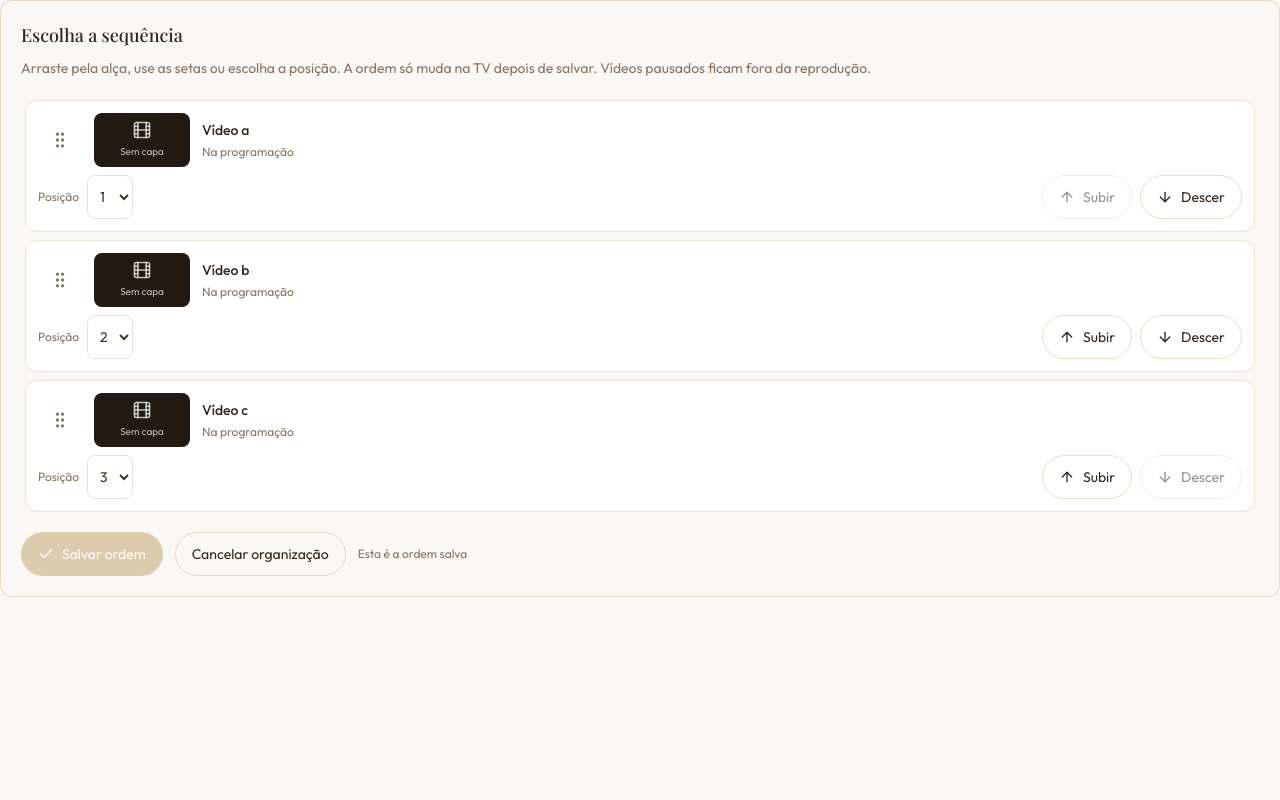
Test: preserves the draft and conflict when both conflict refresh and explicit reload fail: result
Select "1" in the dropdown named "Posição de Vídeo c" at [110, 477], box 87,455 -> 133,499
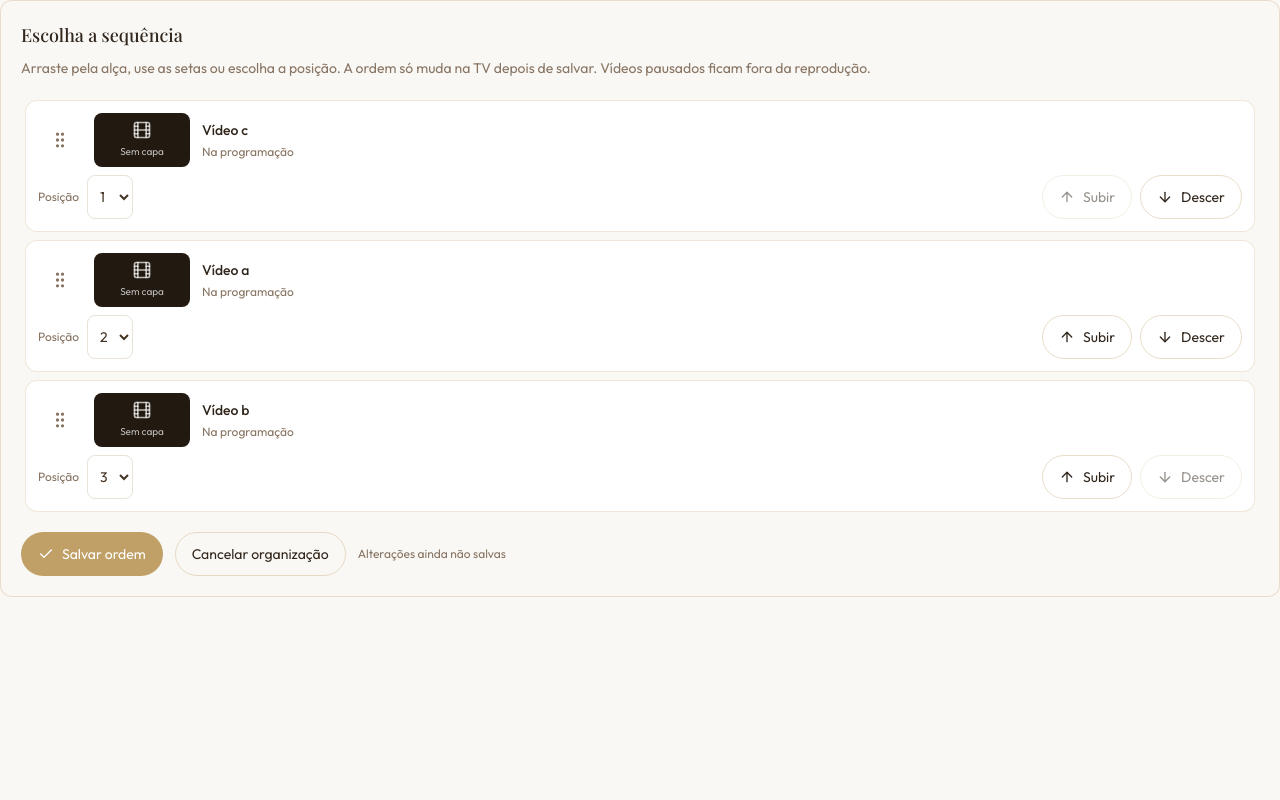
Click the button "Salvar ordem" at [92, 554], box 21,532 -> 163,576
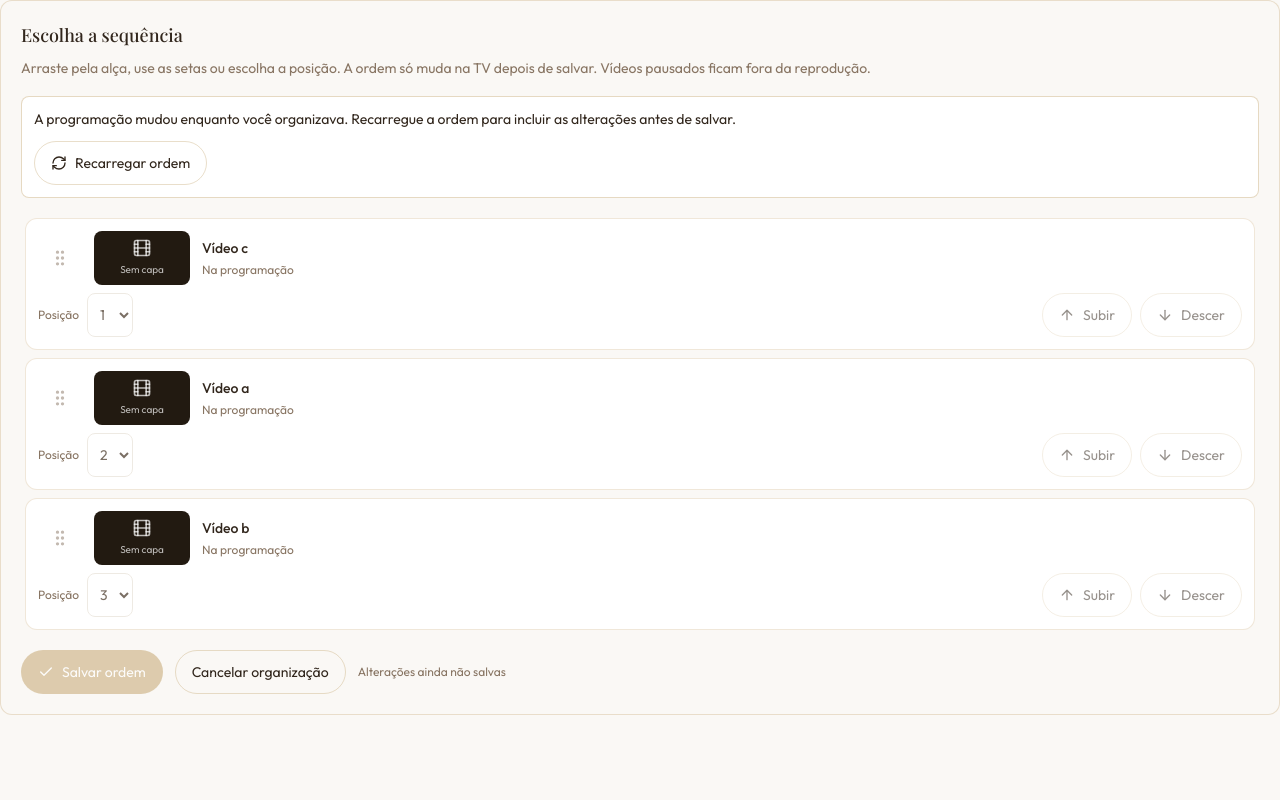
Expected: the button "Recarregar ordem" is enabled
Click the button "Recarregar ordem" at [121, 163], box 34,141 -> 207,185
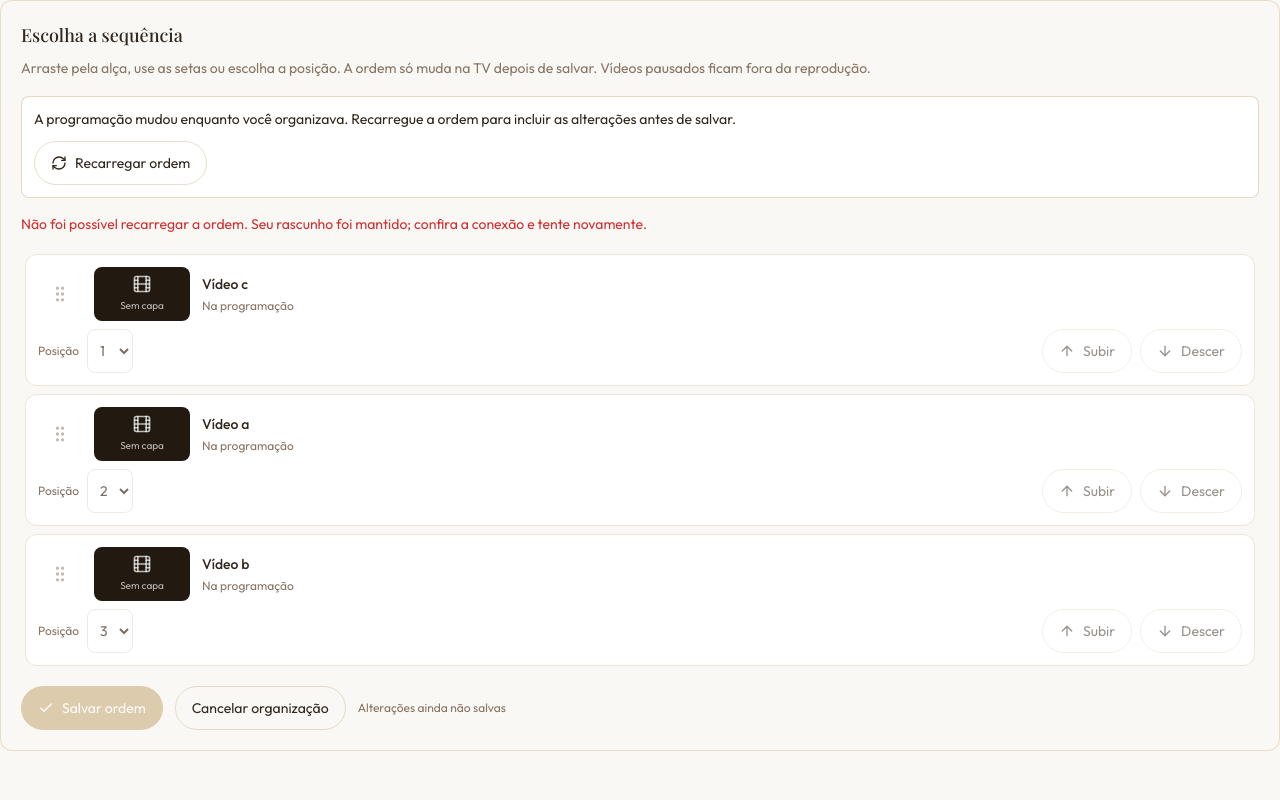
Expected: the text "A programação mudou enquanto você organizava." is shown, 34,110 -> 736,128
Expected: the button "Salvar ordem" is disabled, 21,686 -> 163,730
Expected: the text "Não foi possível recarregar a ordem" is shown, 21,215 -> 647,233
